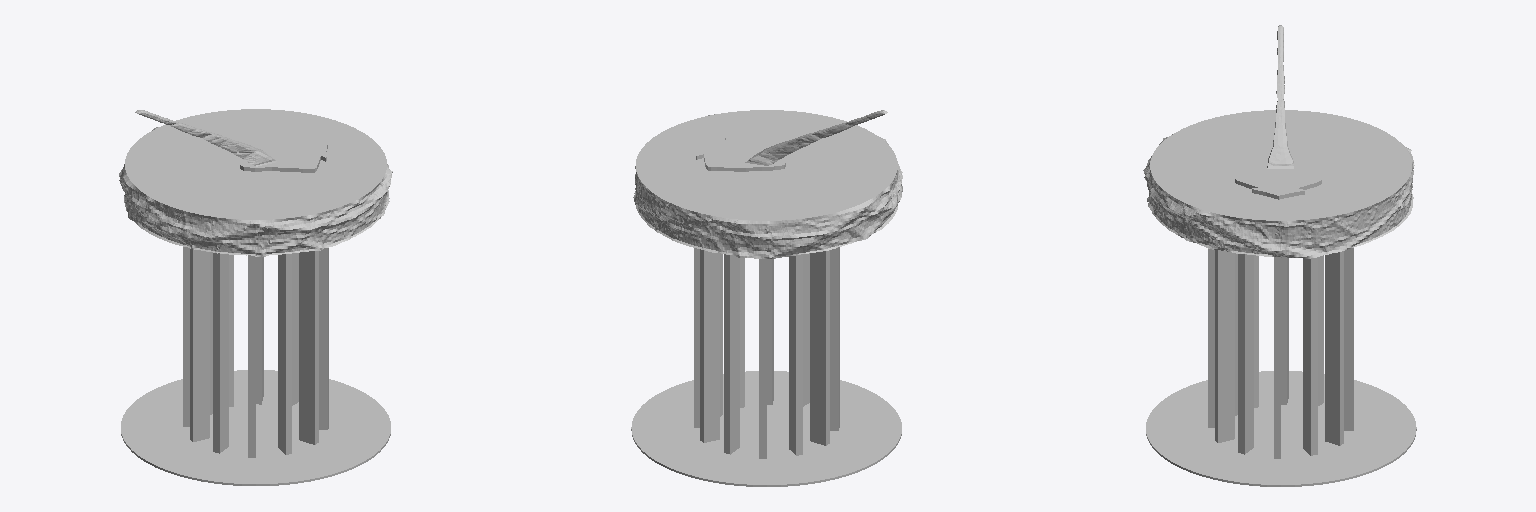
The model's file is sundial.obj.
The picture shows the model from 3 angles: view 1: azimuth 30°, elevation 25°; view 2: azimuth 150°, elevation 25°; view 3: azimuth 270°, elevation 25°; orthographic projection.
Visible parts, largest first — view 1: Cylinder_Cylinder.001; view 2: Cylinder_Cylinder.001; view 3: Cylinder_Cylinder.001.
Boxes of the visible parts, x1=… form: Cylinder_Cylinder.001: x1=119, y1=109, x2=392, y2=485; Cylinder_Cylinder.001: x1=631, y1=110, x2=902, y2=486; Cylinder_Cylinder.001: x1=1143, y1=25, x2=1416, y2=486.
Bounding box in the file's own units: 6.13 × 8.49 × 6.05.